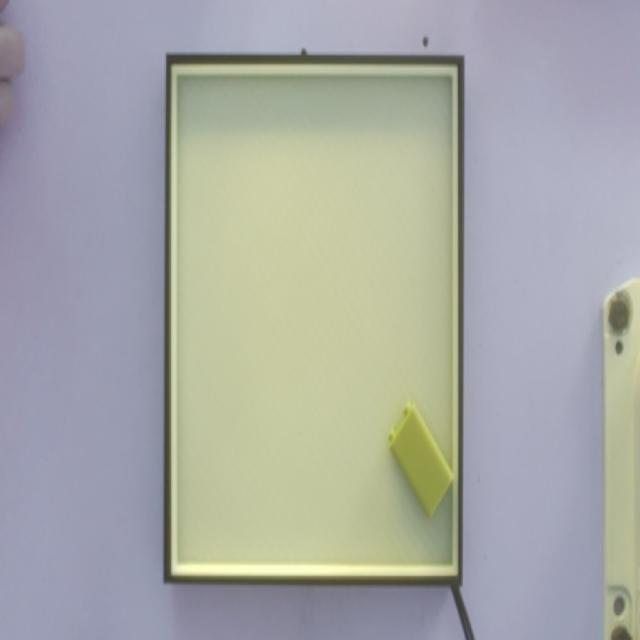bateria: (389, 403, 454, 522)
mesa: (163, 54, 465, 585)
